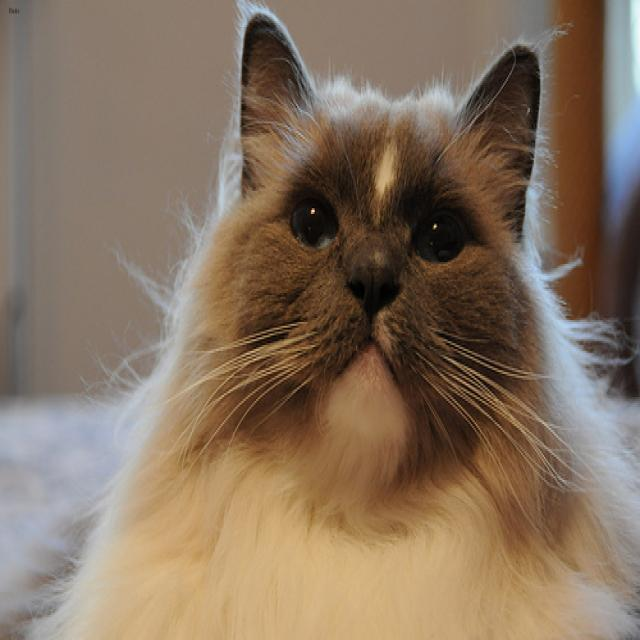Ragdoll: (238, 10, 538, 440)
